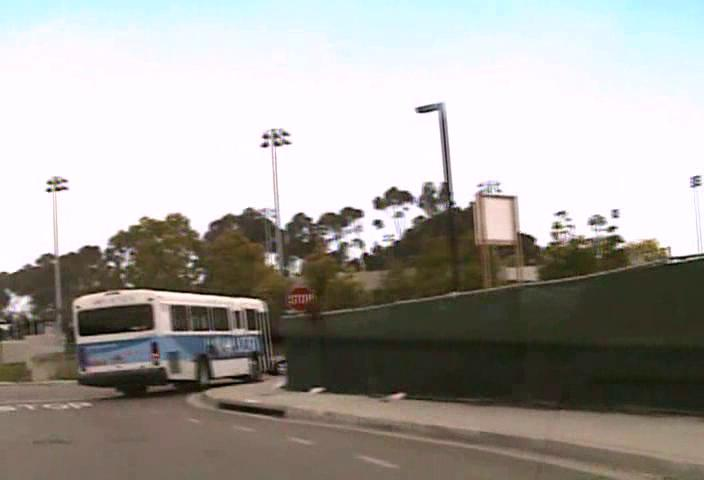stop: (287, 285, 315, 313)
